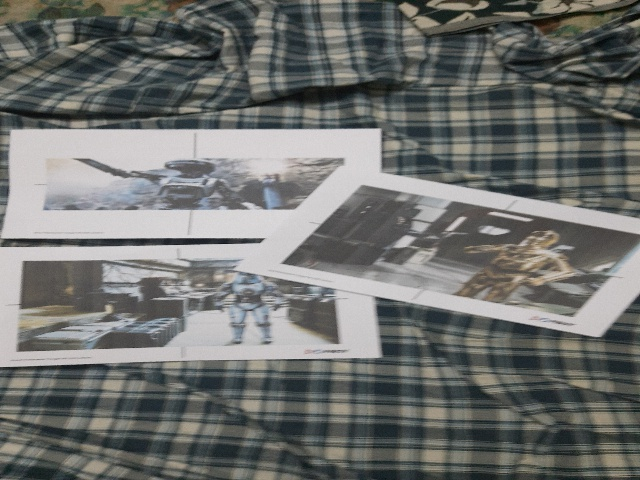bpt2: (26, 141, 355, 234)
fpt1: (9, 252, 361, 357)
rpt1: (299, 156, 625, 324)
